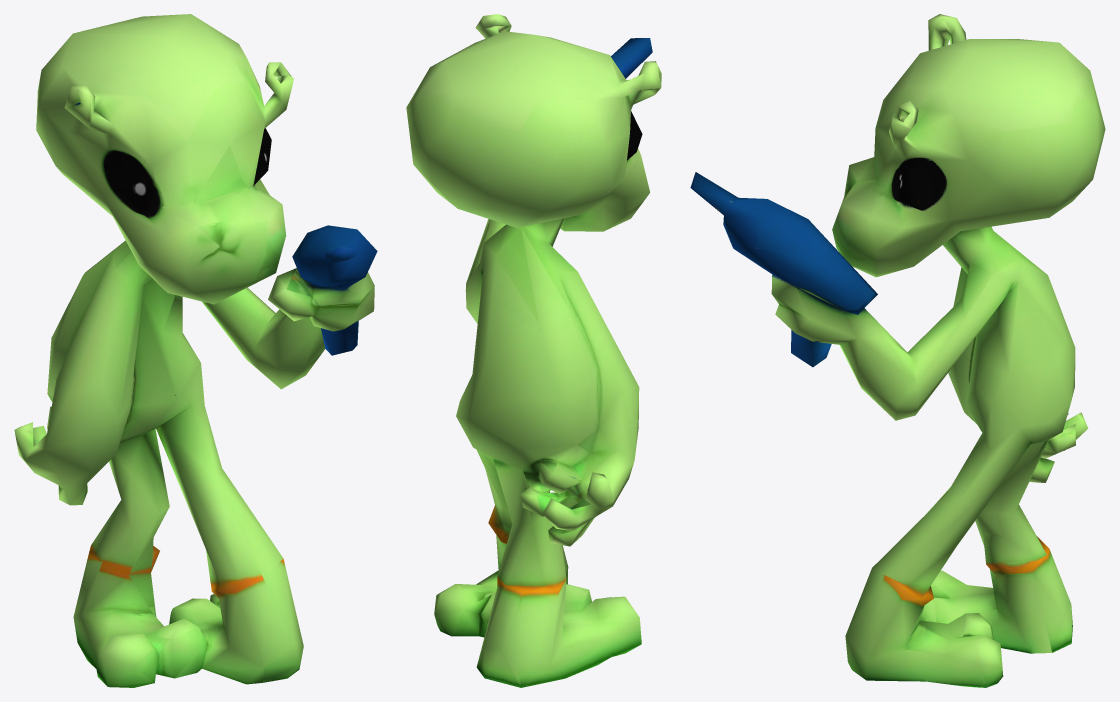
The model's file is kiko_marciano.fbx.
The picture shows the model from 3 angles, left to right: view 1: azimuth 30°, elevation 25°; view 2: azimuth 150°, elevation 25°; view 3: azimuth 270°, elevation 25°; orthographic projection. The views are drawn at different scales.
Visible parts, largest first — view 1: Mesh1.0; view 2: Mesh1.0; view 3: Mesh1.0.
Boxes of the visible parts, x1,y1,x2,y2 form: Mesh1.0: (14,14,377,687); Mesh1.0: (406,14,661,687); Mesh1.0: (690,14,1105,687).
Bounding box in the file's own units: 73.6 × 177 × 112.
Materials: 1 (1 with a texture image).
